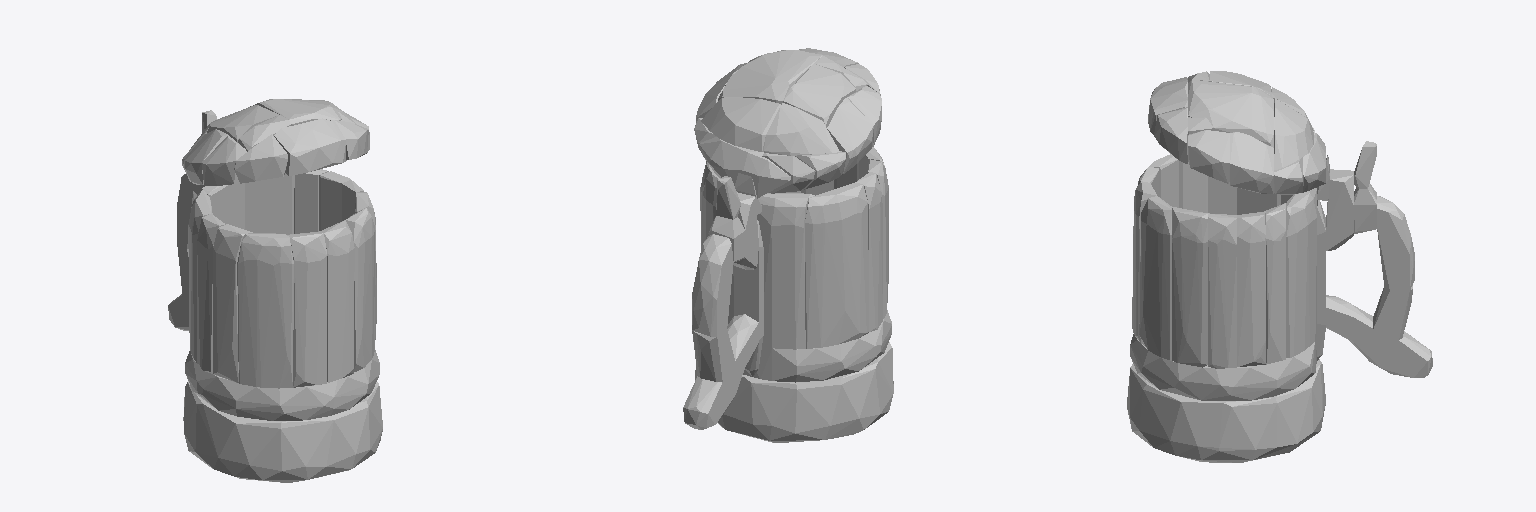
The model's file is model_normalized_convex.obj.
3 views of the same model, side by side, from view 1: azimuth 30°, elevation 25°; view 2: azimuth 150°, elevation 25°; view 3: azimuth 270°, elevation 25° (orthographic).
Parts seen in each view (by area): view 1: convex_2, convex_40, convex_17, convex_10, convex_23, convex_39, convex_24, convex_15, convex_28, convex_38, convex_14, convex_26 (+13 smaller); view 2: convex_2, convex_26, convex_27, convex_17, convex_1, convex_19, convex_22, convex_21, convex_3, convex_32, convex_38, convex_0 (+12 smaller); view 3: convex_2, convex_17, convex_34, convex_28, convex_24, convex_25, convex_37, convex_19, convex_36, convex_1, convex_13, convex_0 (+18 smaller).
Part boxes in pixels (x1,y1,x2,y2): convex_2: (183,381,382,482); convex_40: (237,233,293,388); convex_17: (185,350,379,420); convex_10: (287,232,326,387); convex_23: (319,220,354,382); convex_39: (213,224,252,382); convex_24: (346,208,374,371); convex_15: (274,118,345,175); convex_28: (245,173,294,234); convex_38: (197,214,225,374); convex_14: (234,134,287,183); convex_26: (188,190,212,362); convex_2: (695,342,893,442); convex_26: (805,183,868,348); convex_27: (757,193,814,349); convex_17: (743,310,891,382); convex_1: (692,234,733,336); convex_19: (718,50,822,104); convex_22: (701,97,780,151); convex_21: (764,103,839,155); convex_3: (699,137,790,198); convex_32: (783,64,855,127); convex_38: (855,172,882,331); convex_0: (683,365,745,429); convex_2: (1127,359,1325,462); convex_17: (1130,334,1316,400); convex_34: (1172,207,1207,367); convex_28: (1286,188,1316,357); convex_24: (1139,196,1171,360); convex_25: (1208,213,1236,368); convex_37: (1237,211,1265,366); convex_19: (1188,80,1273,147); convex_36: (1266,203,1285,364); convex_1: (1377,196,1414,290); convex_13: (1230,132,1273,193); convex_0: (1349,331,1432,377).
Size of the model in its own units: 0.382 by 0.7223 by 0.5869.